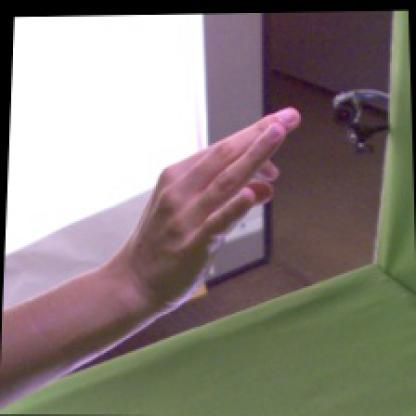Hand: (124, 107, 300, 294)
